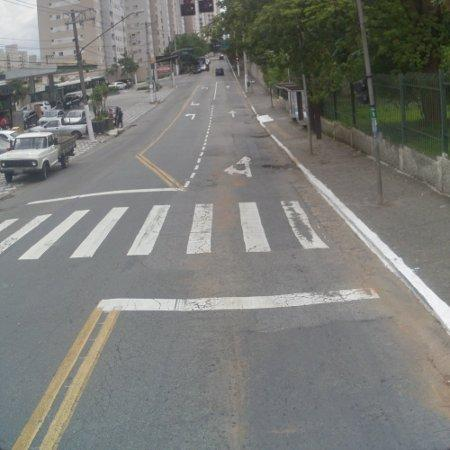crosswalks: (1, 198, 336, 259)
